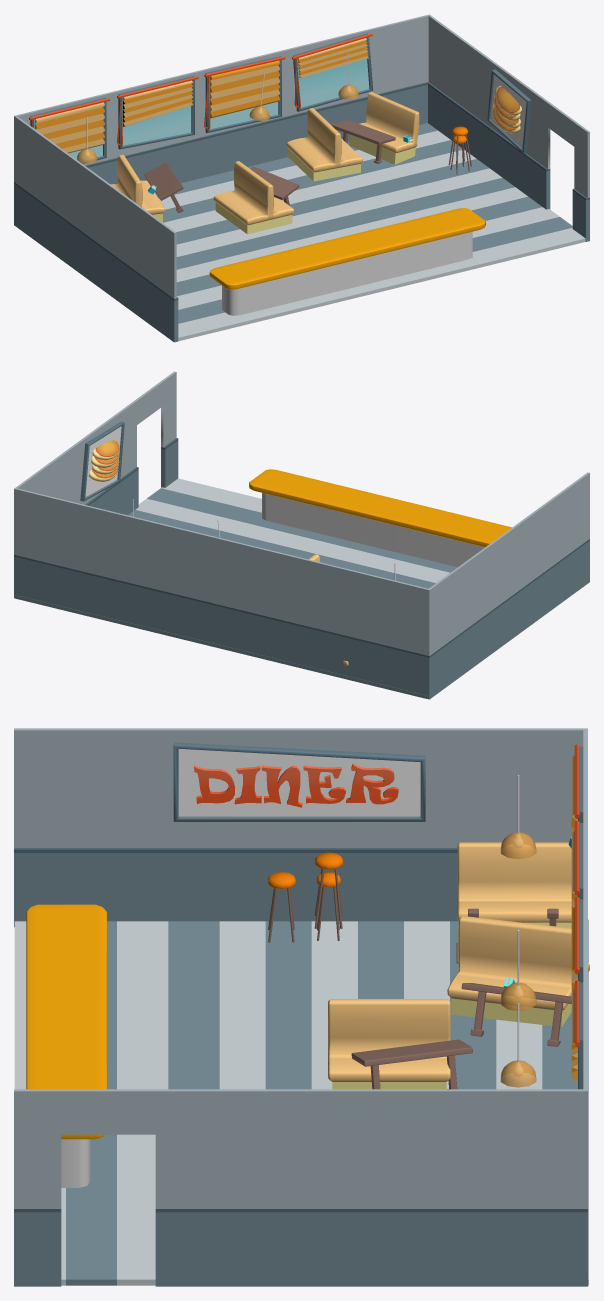
The model's file is 1_messy_diner.fbx.
The picture shows the model from 3 angles, top to bottom: view 1: azimuth 30°, elevation 25°; view 2: azimuth 150°, elevation 25°; view 3: azimuth 270°, elevation 25°; orthographic projection. The views are drawn at different scales.
Parts seen in each view (by area): view 1: walls, floor, counter, window2, window3, window1, double_chair1, window4, double_chair, single_chair, pancake_painting, double_chair2 (+3 smaller); view 2: walls, floor, counter, pancake_painting; view 3: walls, floor, diner_painting, counter, double_chair2, double_chair1, single_chair1, table1, table2, window1, window2, window3 (+6 smaller).
Part boxes in pixels (<box>): walls: <box>14,14,589,342</box>; floor: <box>154,123,585,341</box>; counter: <box>209,208,485,315</box>; window2: <box>204,56,285,132</box>; window3: <box>117,76,198,149</box>; window1: <box>292,33,373,111</box>; double_chair1: <box>213,161,294,234</box>; window4: <box>29,98,110,163</box>; double_chair: <box>286,108,362,181</box>; single_chair: <box>349,92,419,164</box>; pancake_painting: <box>487,69,531,153</box>; double_chair2: <box>111,155,164,222</box>; walls: <box>14,371,589,699</box>; floor: <box>15,478,457,698</box>; counter: <box>249,469,511,567</box>; pancake_painting: <box>80,421,124,501</box>; walls: <box>14,728,587,1286</box>; floor: <box>14,919,588,1285</box>; diner_painting: <box>173,742,425,821</box>; counter: <box>26,904,106,1187</box>; double_chair2: <box>447,916,589,1026</box>; double_chair1: <box>328,999,450,1089</box>; single_chair1: <box>457,842,571,927</box>; table1: <box>351,1039,472,1089</box>; table2: <box>461,983,571,1046</box>; window1: <box>571,980,583,1089</box>; window2: <box>571,897,583,990</box>; window3: <box>571,820,583,909</box>.
Size of the model in its own units: 45.31 by 11.39 by 30.39.
